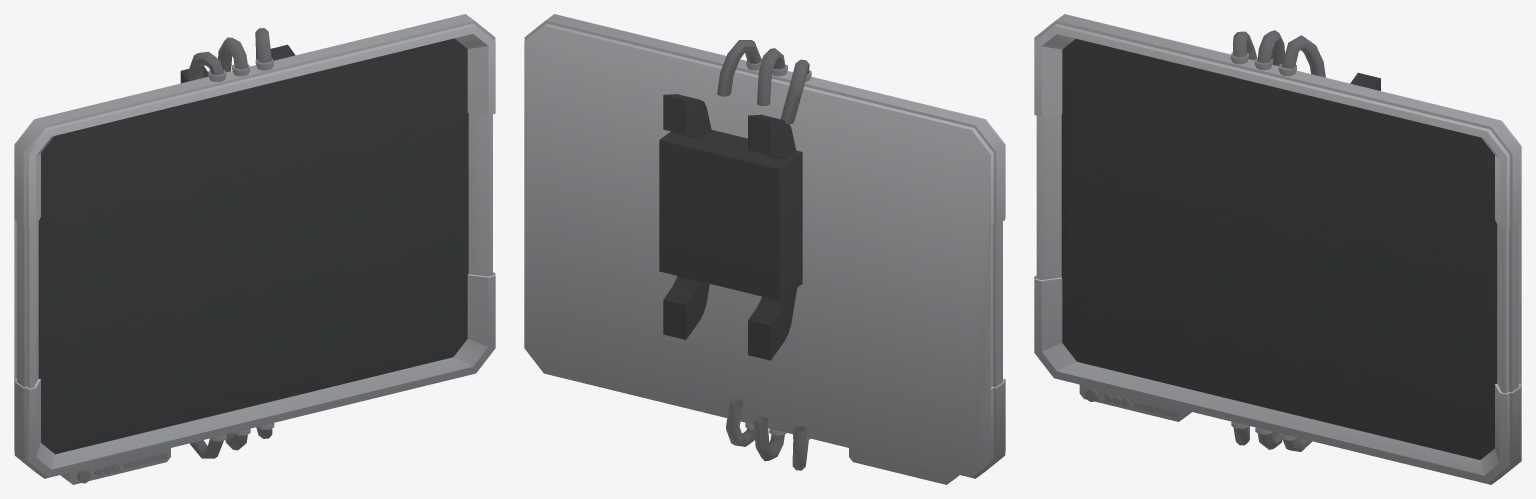
The model's file is mars_base_bigger_screen.glb.
3 views of the same model, side by side, from view 1: azimuth 30°, elevation 25°; view 2: azimuth 150°, elevation 25°; view 3: azimuth 330°, elevation 25° (orthographic).
Visible parts, largest first — view 1: Cube.041_5; view 2: Cube.041_5; view 3: Cube.041_5.
Boxes of the visible parts, x1,y1,x2,y2 form: Cube.041_5: (14, 14, 495, 484); Cube.041_5: (524, 14, 1005, 484); Cube.041_5: (1034, 14, 1521, 484).
Bounding box in the file's own units: 2.79 × 2.34 × 0.4279.
1 material, 1 textured.
